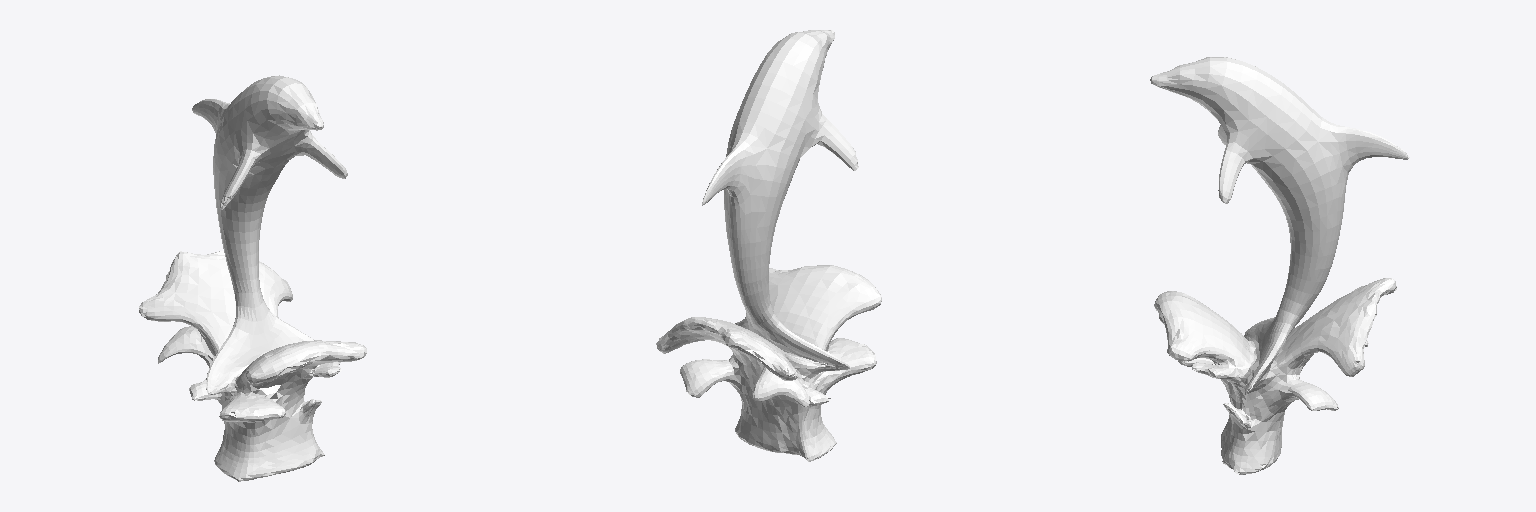
The model's file is dolphin_v1.obj.
The picture shows the model from 3 angles: view 1: azimuth 30°, elevation 25°; view 2: azimuth 150°, elevation 25°; view 3: azimuth 270°, elevation 25°; orthographic projection.
Parts seen in each view (by area): view 1: Retopo_13182_LeapingDolphinStatue_v1_NEW_mesh; view 2: Retopo_13182_LeapingDolphinStatue_v1_NEW_mesh; view 3: Retopo_13182_LeapingDolphinStatue_v1_NEW_mesh.
Part boxes in pixels (x1,y1,x2,y2): Retopo_13182_LeapingDolphinStatue_v1_NEW_mesh: (139, 75, 366, 481); Retopo_13182_LeapingDolphinStatue_v1_NEW_mesh: (656, 30, 881, 461); Retopo_13182_LeapingDolphinStatue_v1_NEW_mesh: (1150, 57, 1409, 474).
Bounding box in the file's own units: 1.34 × 3.5 × 2.09.